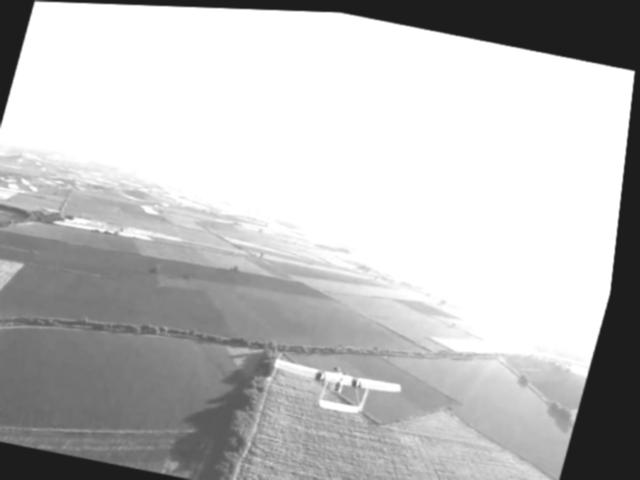hedef: (265, 342, 420, 433)
